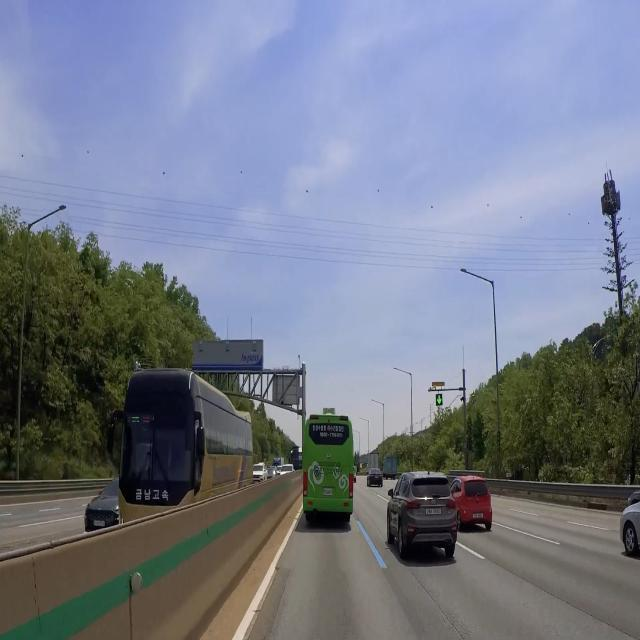car: (424, 506, 445, 517), (471, 510, 485, 521), (321, 486, 334, 497)
